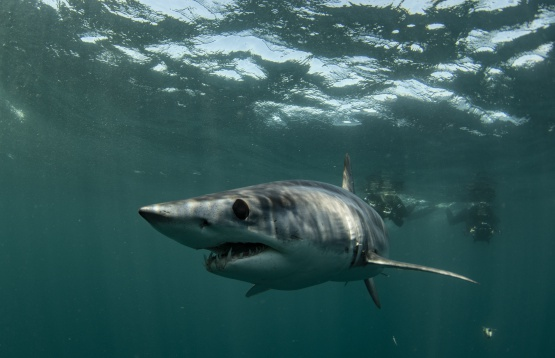Mako: (129, 144, 497, 323)
